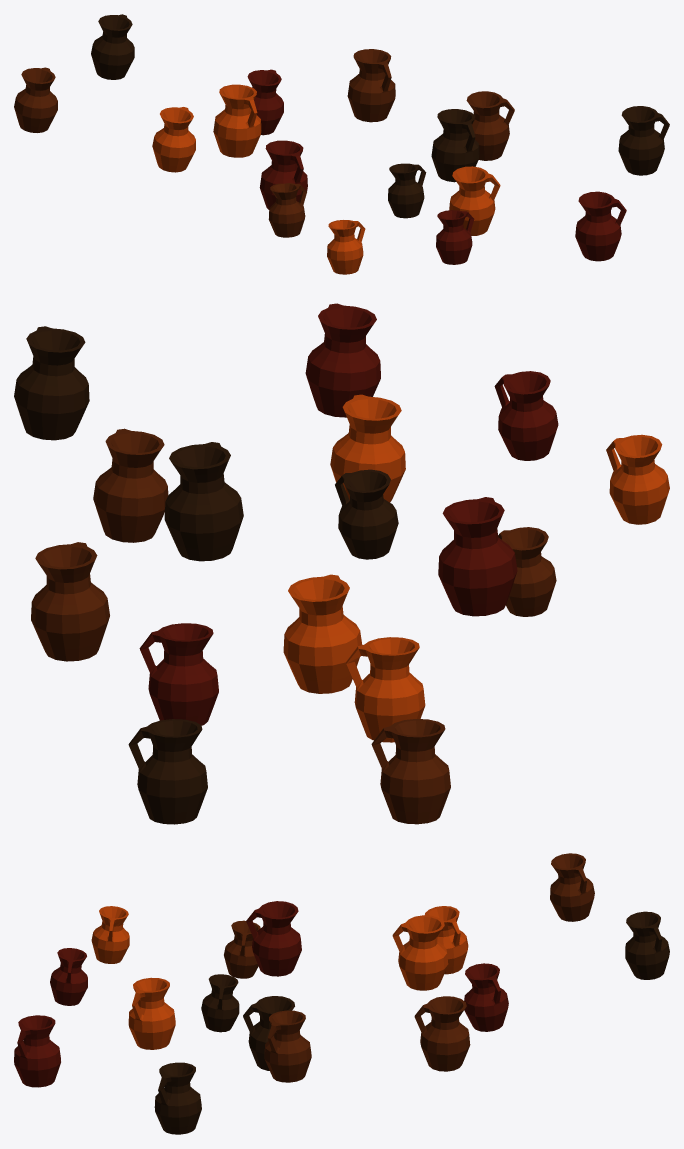
The model's file is vases_test2.obj.
The picture shows the model from 3 angles, top to bottom: view 1: azimuth 30°, elevation 25°; view 2: azimuth 150°, elevation 25°; view 3: azimuth 270°, elevation 25°; orthographic projection. The views are drawn at different scales.
Bounding box in the file's own units: 2639 × 418 × 3198.
